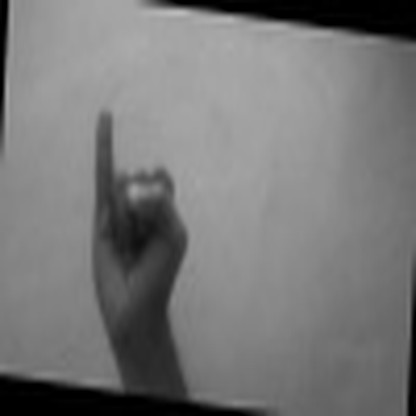i: (65, 94, 198, 329)
